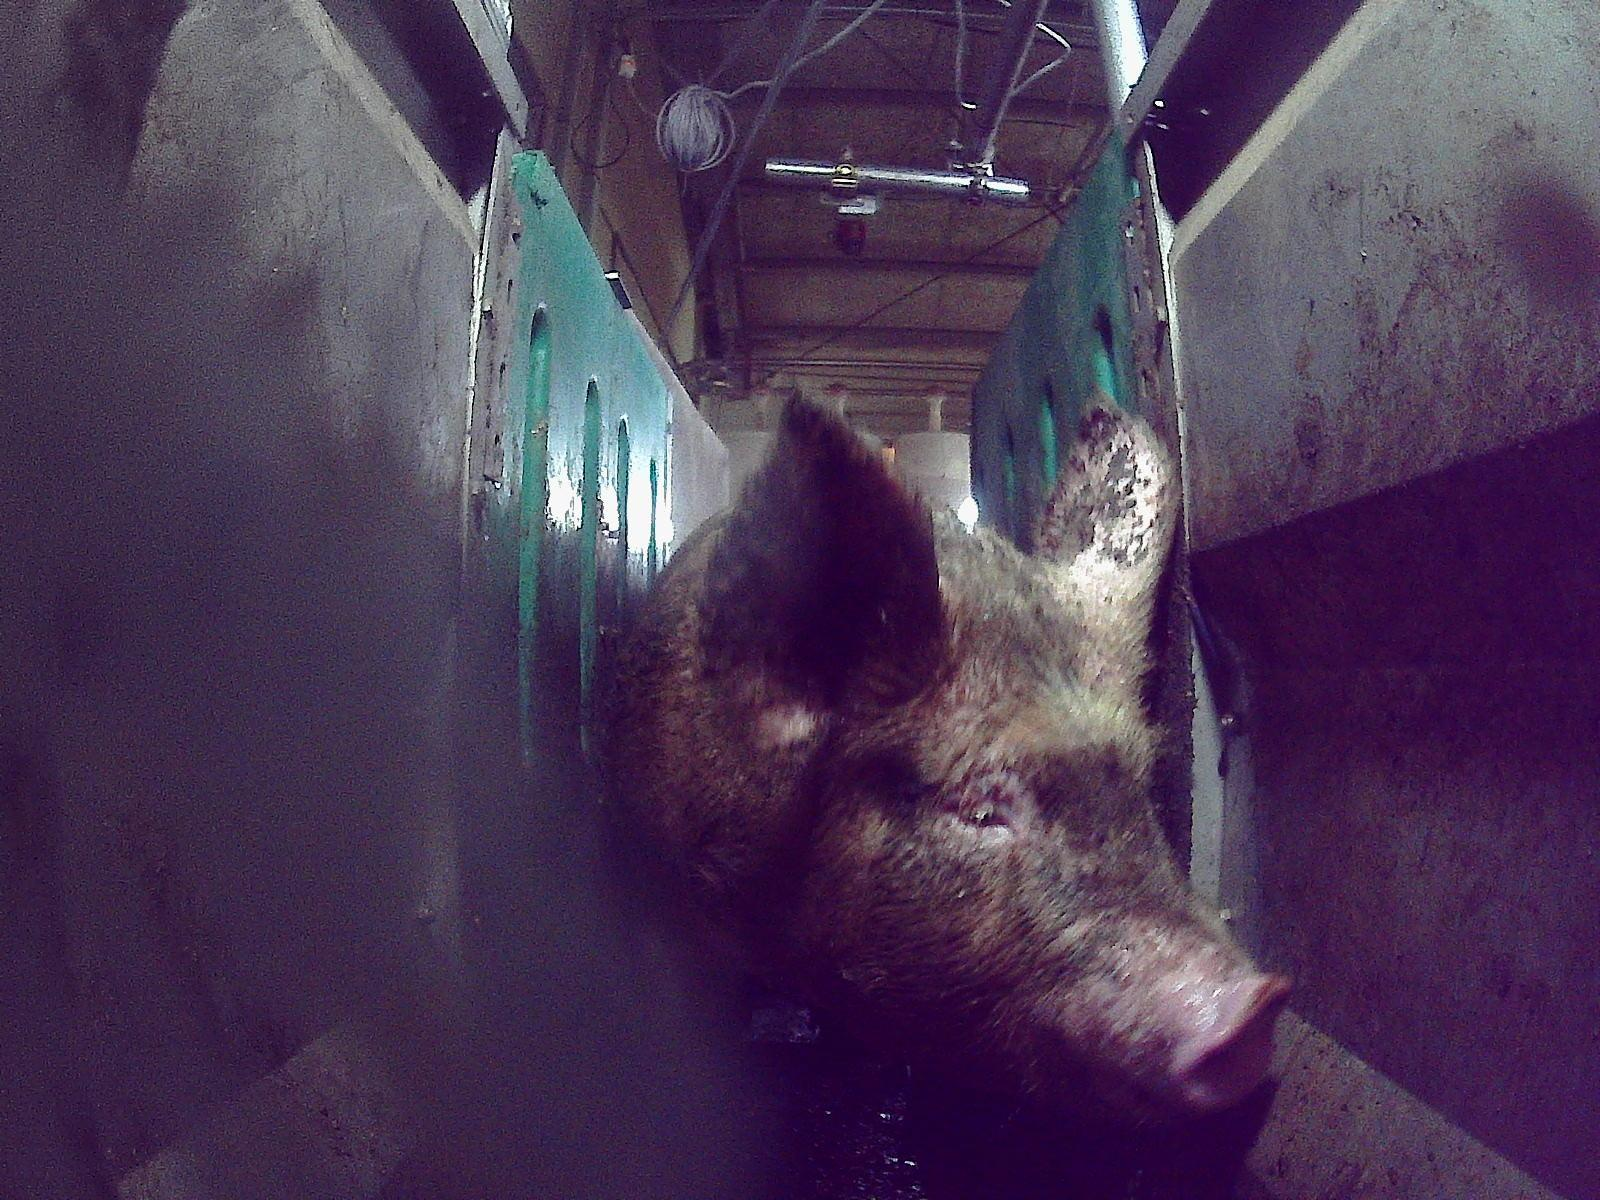Face: (752, 538, 1284, 1135)
